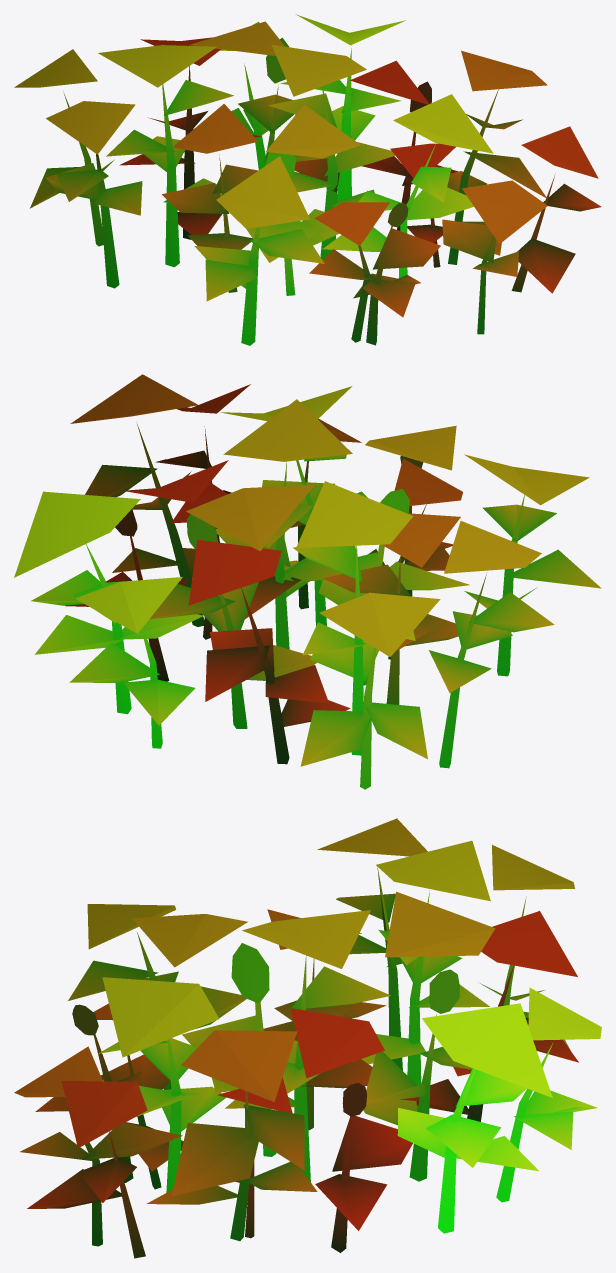
The model's file is G_WhiteFlower_001_S1.fbx.
3 views of the same model, one above another, from view 1: azimuth 30°, elevation 25°; view 2: azimuth 150°, elevation 25°; view 3: azimuth 270°, elevation 25° (orthographic). The views are drawn at different scales.
Parts seen in each view (by area): view 1: G_WhiteFlower_001_S1_P01_LOD0; view 2: G_WhiteFlower_001_S1_P01_LOD0; view 3: G_WhiteFlower_001_S1_P01_LOD0.
Boxes of the visible parts, box(x1,y1,x2,y2) form: G_WhiteFlower_001_S1_P01_LOD0: box(14, 14, 601, 345); G_WhiteFlower_001_S1_P01_LOD0: box(14, 374, 601, 789); G_WhiteFlower_001_S1_P01_LOD0: box(14, 818, 601, 1258).
Size of what is drawn, in the model's own units: 119 by 61.09 by 115.
